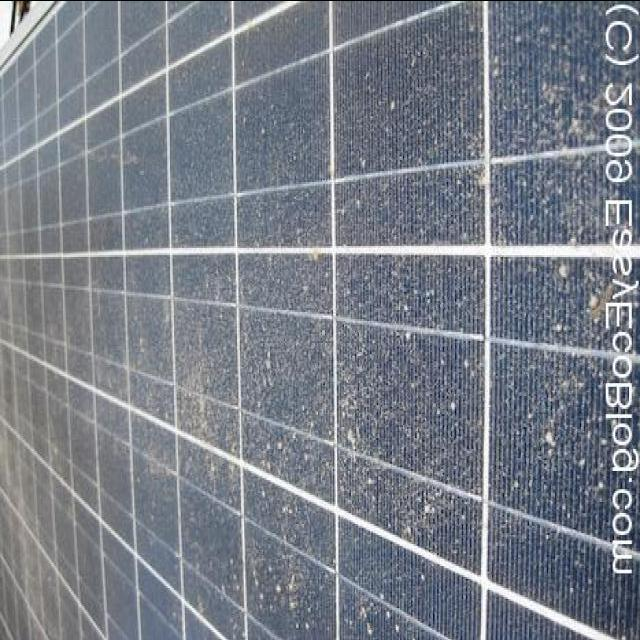soiled: (2, 2, 604, 640)
